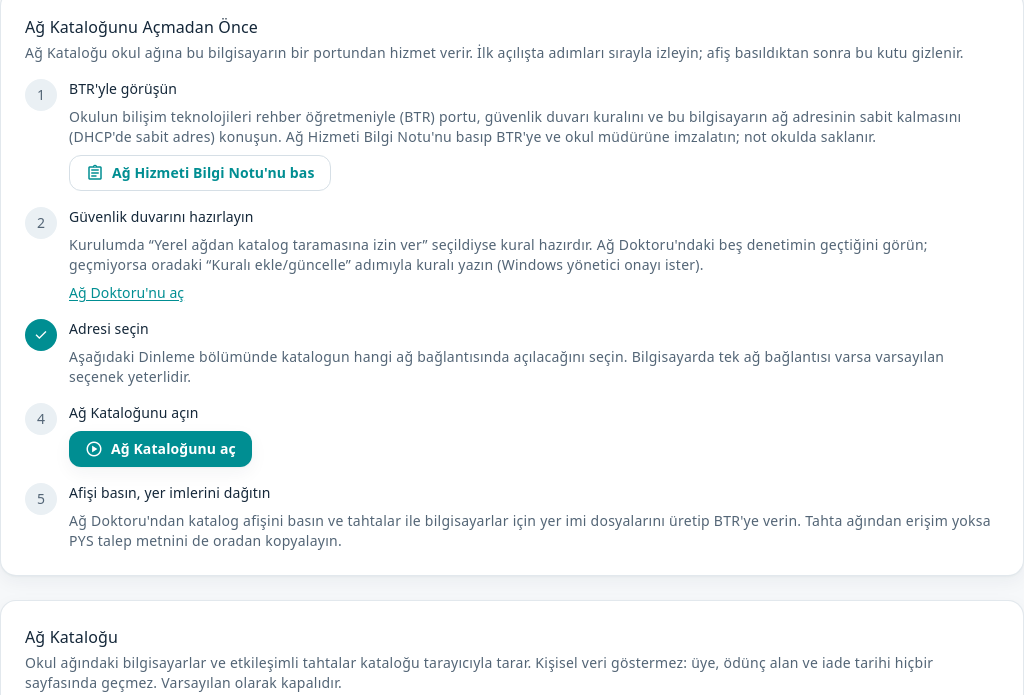
Scenario: Ağ Kataloğu — ilk açılış › açılamadıysa kart kalır; 2. adımın yönlendirmesi ve kapatma yolu durur
Click the button "Ağ Kataloğunu aç". click: x=160, y=449
box: [69,431,252,467]
(page scrolled)
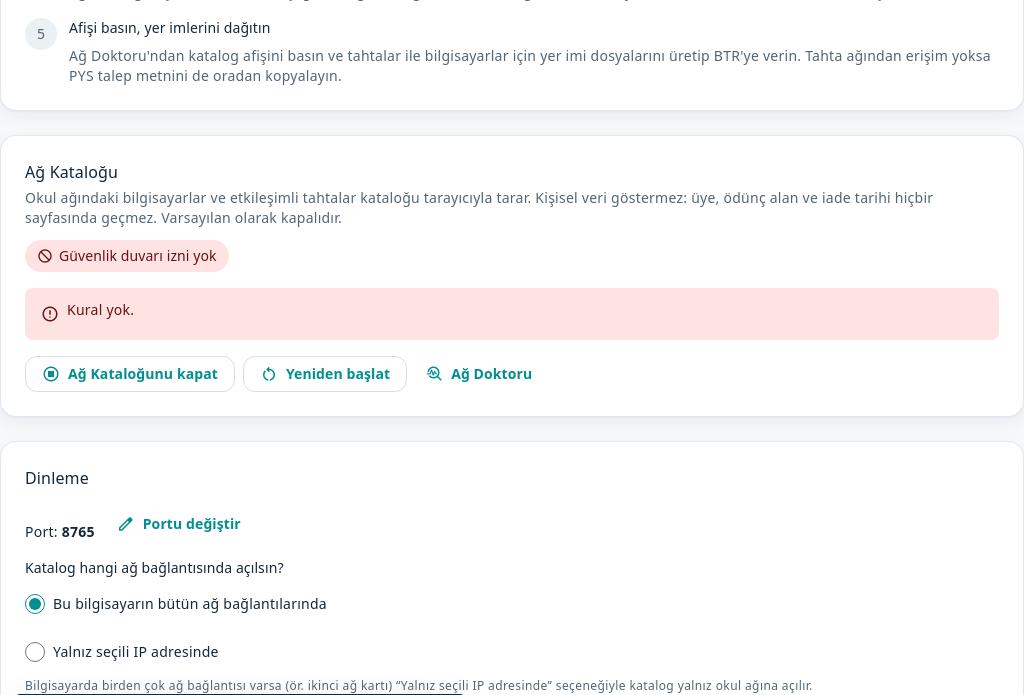
Expected: the button "Ağ Kataloğunu kapat" is shown, [25,356,235,392]
Expected: the button "Yeniden başlat" is shown, [243,356,407,392]
